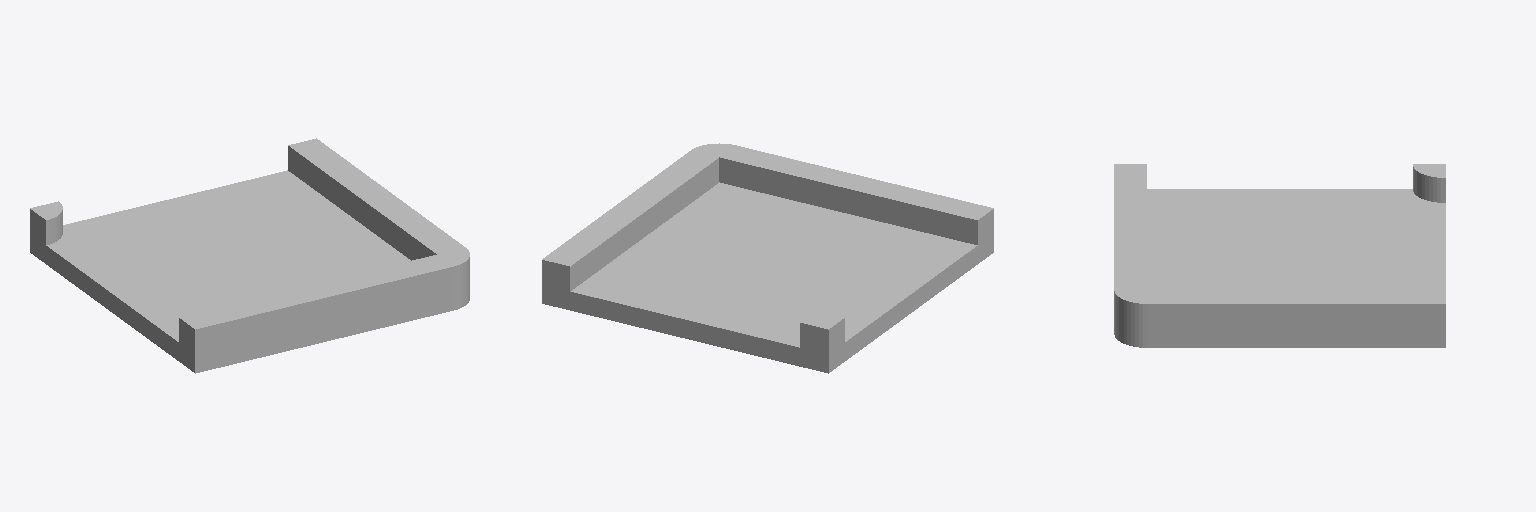
File: squareCornerA.obj
3 views of the same model, side by side, from view 1: azimuth 30°, elevation 25°; view 2: azimuth 150°, elevation 25°; view 3: azimuth 270°, elevation 25° (orthographic).
Parts seen in each view (by area): view 1: squareCornerA; view 2: squareCornerA; view 3: squareCornerA.
Boxes of the visible parts, <box> form: squareCornerA: <box>30,138,469,373</box>; squareCornerA: <box>542,143,993,373</box>; squareCornerA: <box>1114,164,1445,347</box>.
Size of the model in its own units: 0.9999 by 0.1467 by 0.9999.